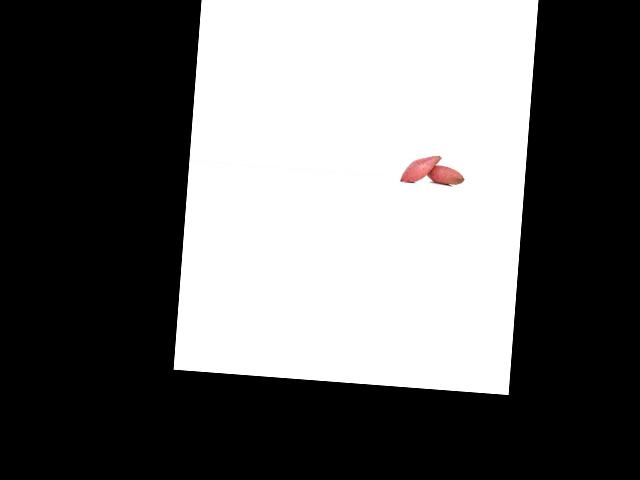sweet_potato: (423, 162, 466, 186)
